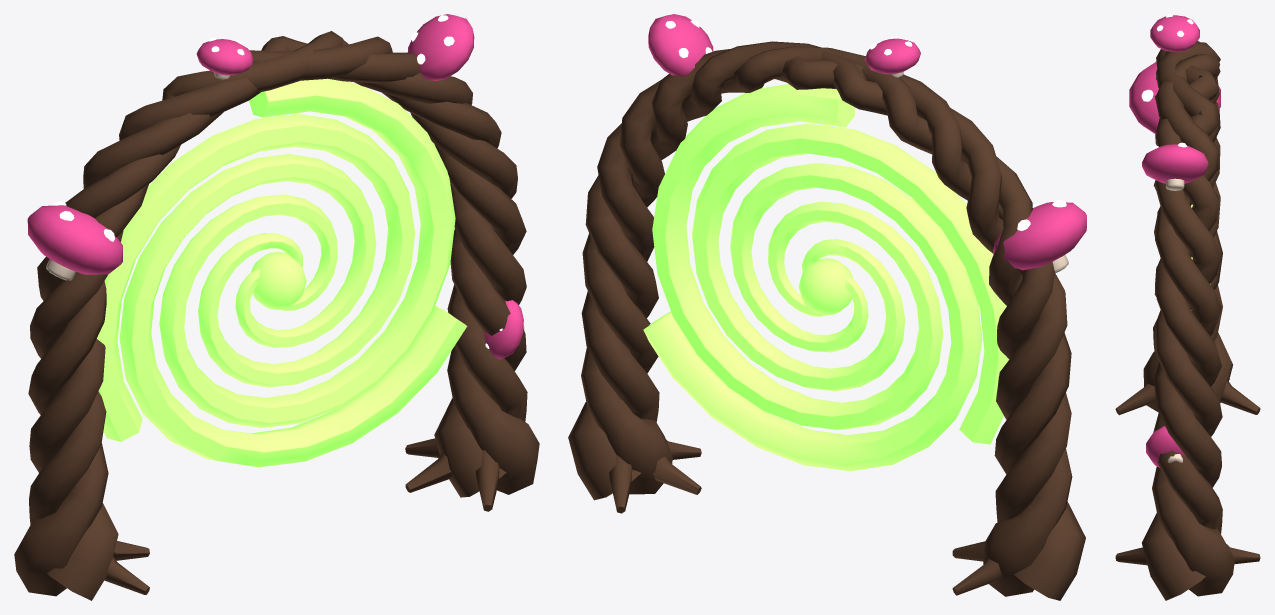
File: PortalJardin.fbx
3 views of the same model, side by side, from view 1: azimuth 30°, elevation 25°; view 2: azimuth 150°, elevation 25°; view 3: azimuth 270°, elevation 25° (orthographic). The views are drawn at different scales.
Parts seen in each view (by area): view 1: PortalJardin_Remolino_Neon_Anim, PortalJardin_Raices, PortalJardin_Sombreros, PortalJardin_Lunares_Neon; view 2: PortalJardin_Remolino_Neon_Anim, PortalJardin_Raices, PortalJardin_Sombreros; view 3: PortalJardin_Raices, PortalJardin_Sombreros, PortalJardin_Pies, PortalJardin_Lunares_Neon.
Boxes of the visible parts, x1,y1,x2,y2 form: PortalJardin_Remolino_Neon_Anim: (97,78,467,467); PortalJardin_Raices: (14,31,539,600); PortalJardin_Sombreros: (27,14,523,359); PortalJardin_Lunares_Neon: (53,15,502,348); PortalJardin_Remolino_Neon_Anim: (643,84,1009,471); PortalJardin_Raices: (568,41,1085,600); PortalJardin_Sombreros: (648,14,1086,269); PortalJardin_Raices: (1115,41,1260,600); PortalJardin_Sombreros: (1129,15,1220,467); PortalJardin_Pies: (1166,178,1184,463); PortalJardin_Lunares_Neon: (1141,14,1193,150).
Bounding box in the file's own units: 12.13 × 11.79 × 3.4.
